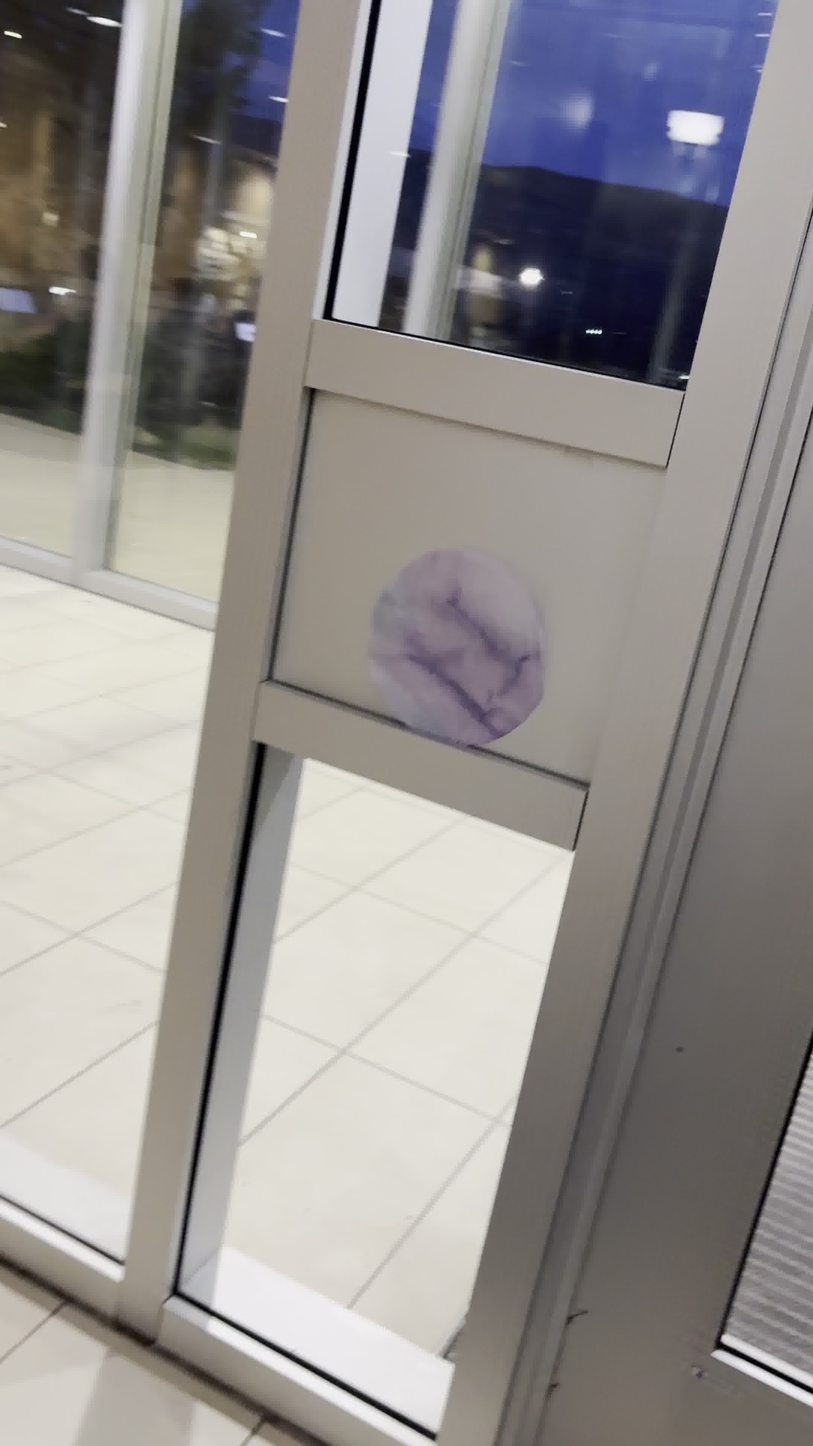Target: (363, 543, 551, 748)
